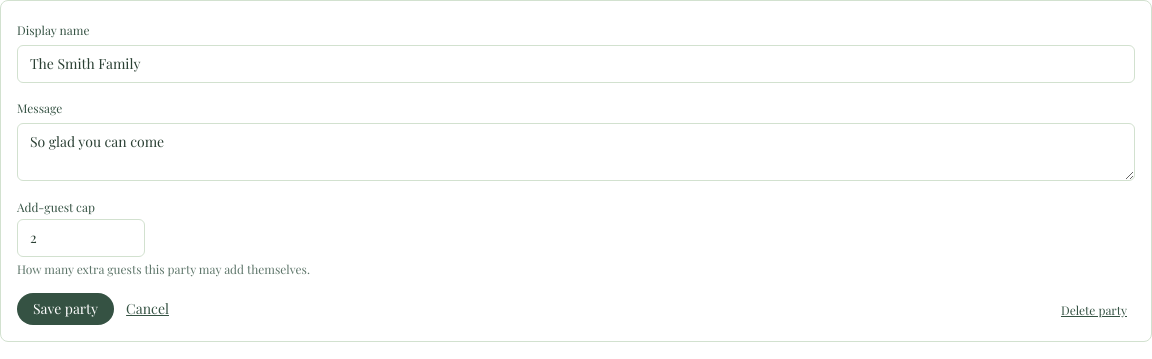
Test: PartyEditForm › pluralizes the cascade warning
Click the button "Delete party". click: (1094, 310)
box: x1=1053 y1=298 x2=1135 y2=322
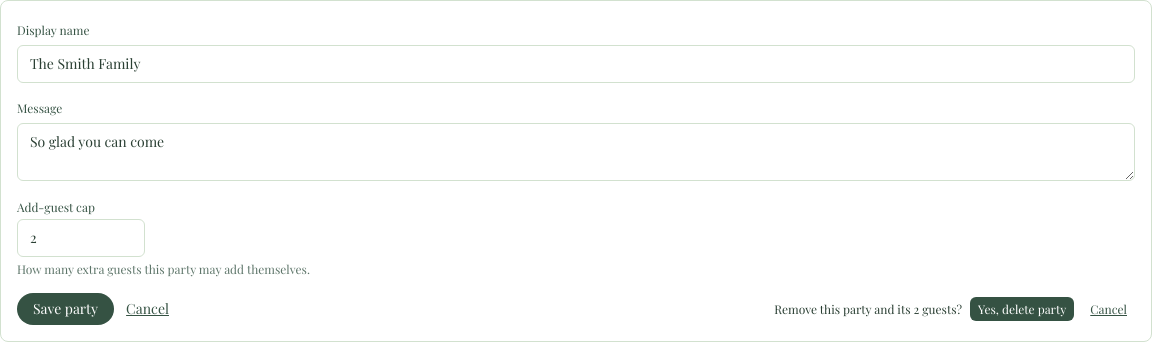
Check: the text "Remove this party and its 2 guests?" is shown, box x1=774 y1=301 x2=962 y2=317
